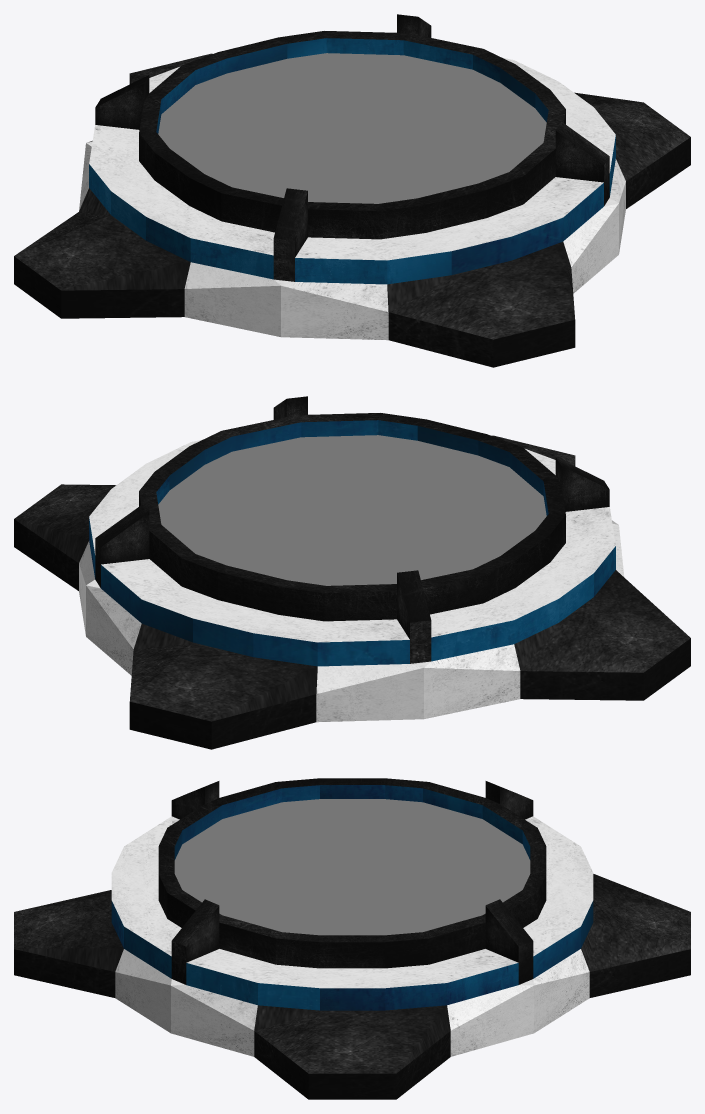
File: Thermal_Discouragement_Beam_Button.fbx
3 views of the same model, one above another, from view 1: azimuth 30°, elevation 25°; view 2: azimuth 150°, elevation 25°; view 3: azimuth 270°, elevation 25° (orthographic). The views are drawn at different scales.
Parts seen in each view (by area): view 1: Base, Receiver; view 2: Base, Receiver; view 3: Base, Receiver.
Part boxes in pixels (<box>): Base: <box>14,14,690,367</box>; Receiver: <box>158,53,546,203</box>; Base: <box>14,396,690,749</box>; Receiver: <box>158,435,546,585</box>; Base: <box>14,778,690,1099</box>; Receiver: <box>174,799,530,935</box>.
Size of the model in its own units: 264 by 48.83 by 264.
2 materials, 1 textured.
